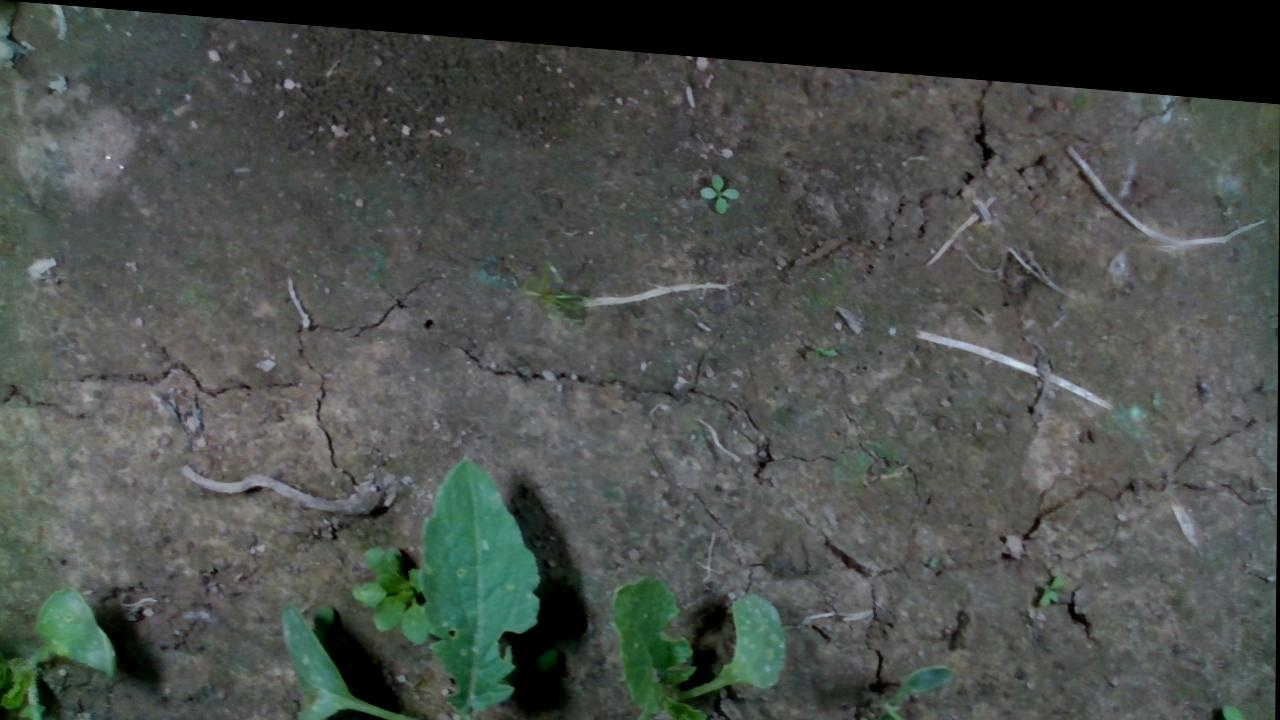weed: (696, 157, 738, 201), (1037, 553, 1065, 590)
